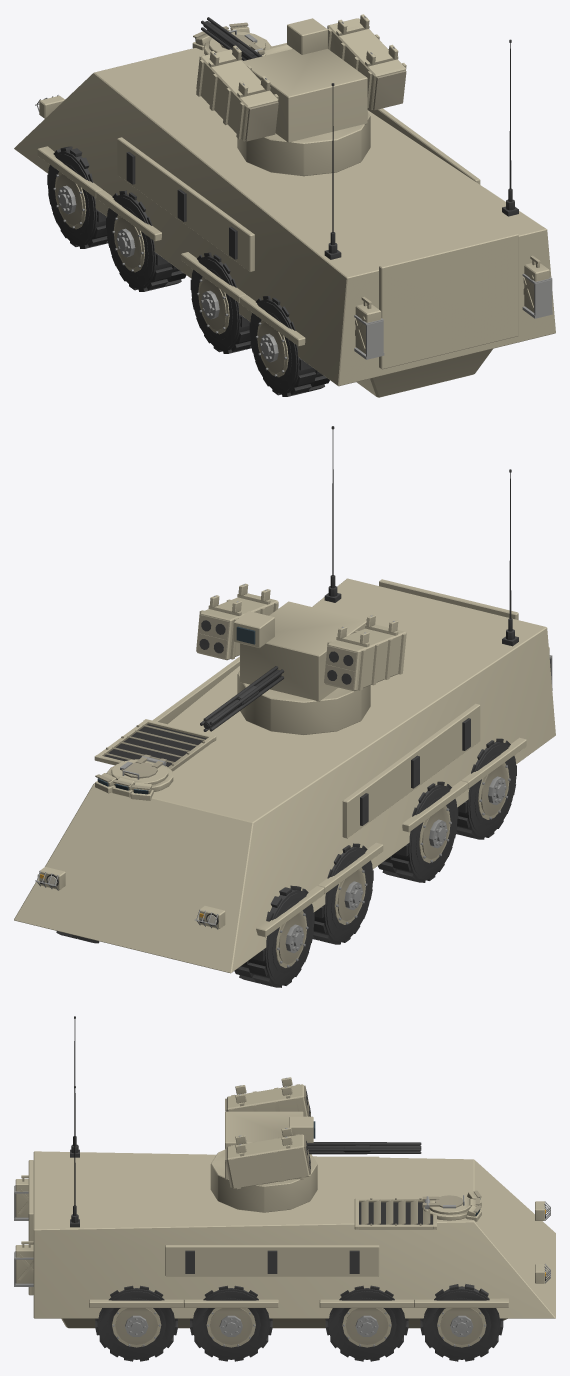
The model's file is usa_cst_lavad.glb.
3 views of the same model, one above another, from view 1: azimuth 30°, elevation 25°; view 2: azimuth 150°, elevation 25°; view 3: azimuth 270°, elevation 25° (orthographic). The views are drawn at different scales.
Parts seen in each view (by area): view 1: body, turret, barrel, wheel_2, wheel_6, wheel_0, wheel_4; view 2: body, turret, barrel, wheel_0, wheel_4, wheel_2, wheel_6; view 3: body, barrel, turret, wheel_1, wheel_3, wheel_5, wheel_7.
Boxes of the visible parts, x1,y1,x2,y2 form: body: (14,22,555,397); turret: (237,18,370,176); barrel: (196,14,406,141); wheel_2: (106,190,186,291); wheel_6: (249,296,329,396); wheel_0: (47,146,107,248); wheel_4: (190,252,251,353); body: (14,426,555,973); turret: (233,601,370,734); barrel: (196,583,406,731); wheel_0: (234,885,314,987); wheel_4: (378,781,458,882); wheel_2: (312,843,373,944); wheel_6: (456,738,516,839); body: (14,1016,555,1328); barrel: (225,1077,421,1189); turret: (210,1111,317,1212); wheel_1: (420,1284,503,1361); wheel_3: (325,1285,408,1361); wheel_5: (190,1285,272,1361); wheel_7: (95,1285,177,1361).
Bounding box in the file's own units: 2.66 × 3.59 × 6.58.
